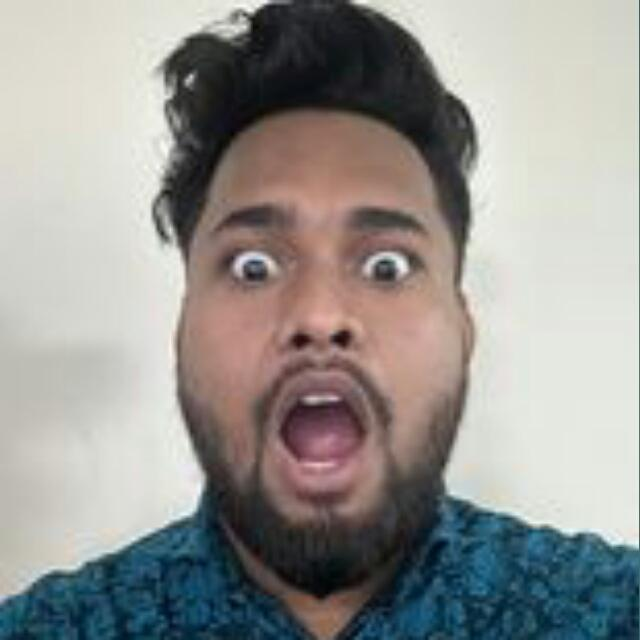Surprised: (123, 149, 525, 583)
